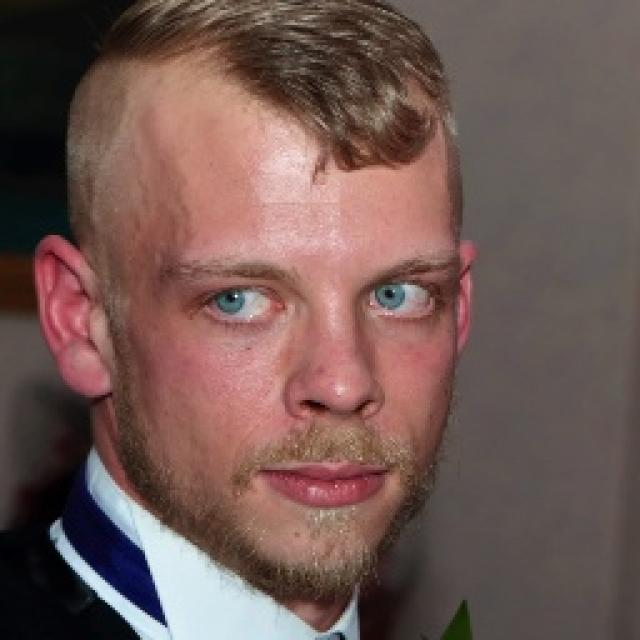earlobe: (33, 235, 112, 400), (455, 240, 478, 356)
